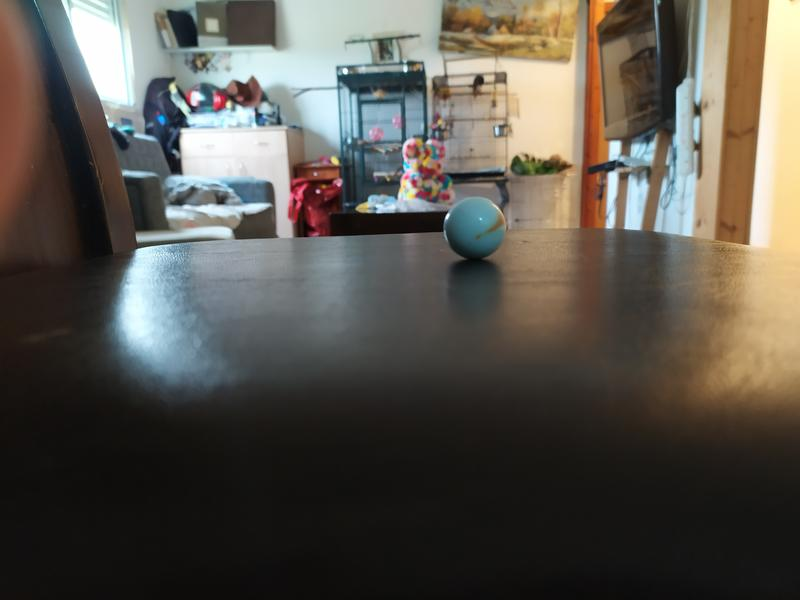Warning: (441, 195, 508, 262)
